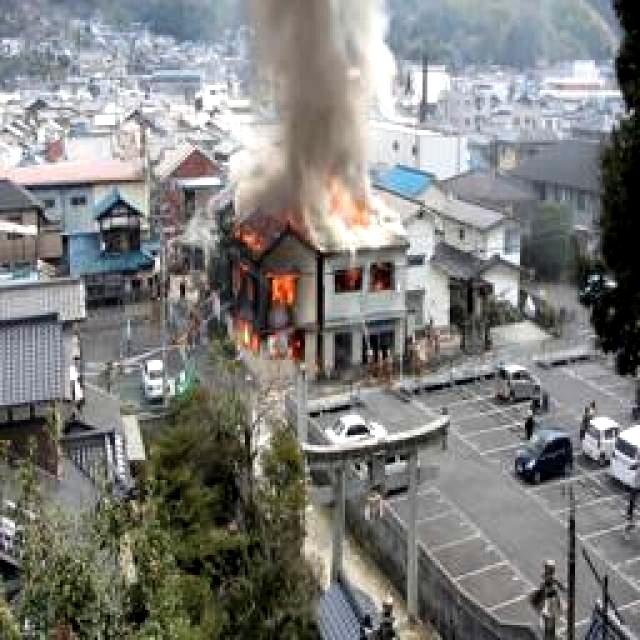fire: (224, 234, 308, 366)
